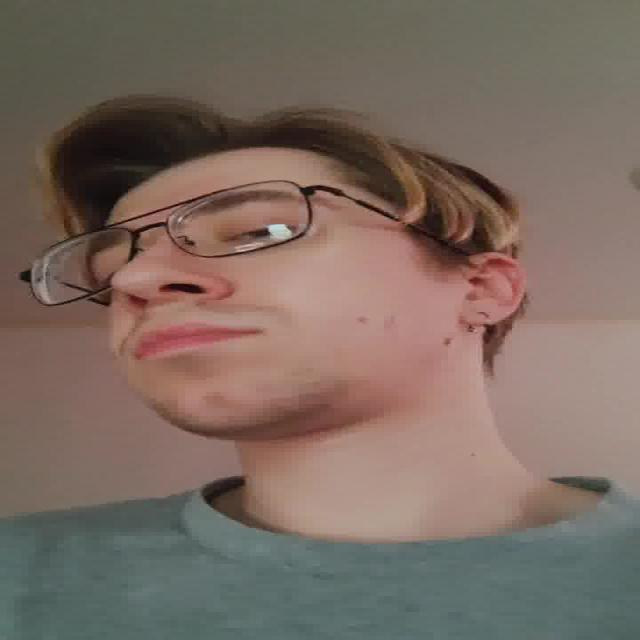earlobe: (457, 298, 499, 326)
eye: (211, 225, 308, 246)
nose: (120, 289, 230, 327)
wholeear: (457, 251, 526, 326)
